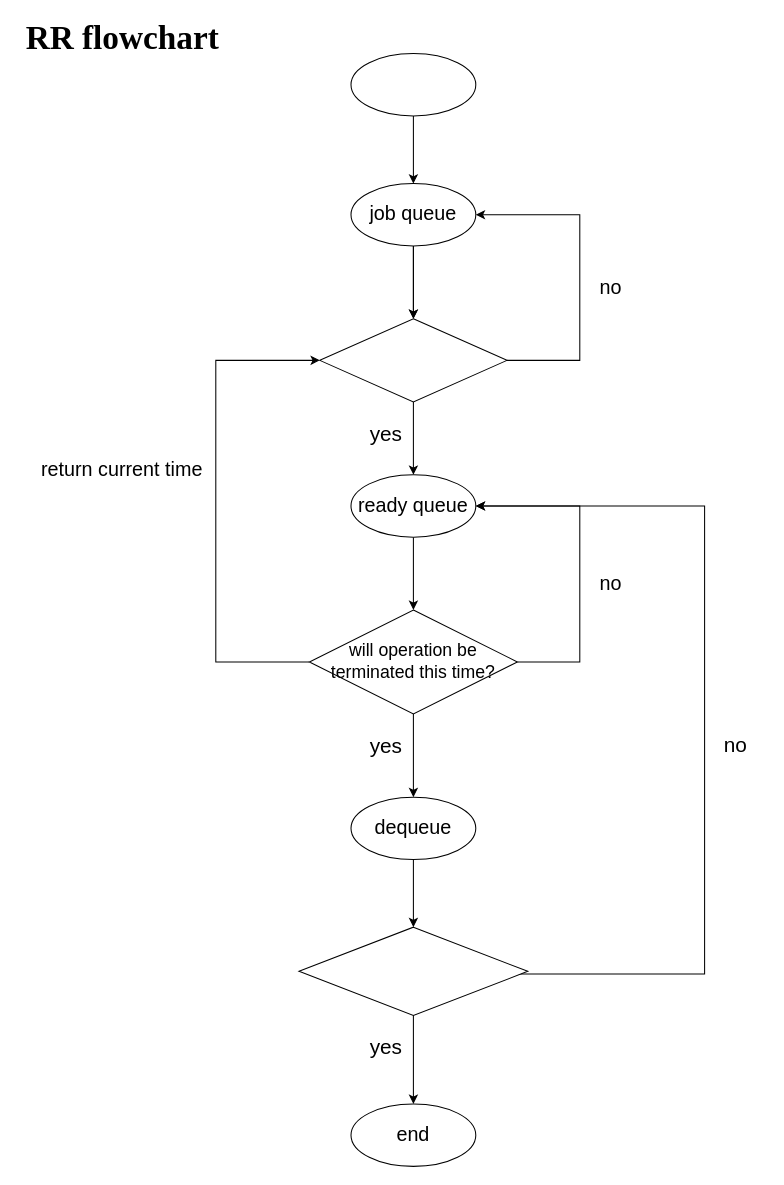
Image size: 784x1185. Some labels were removed from this diagram. The shapes that lost their labels are listed below. From the top down, each one's centre as x and y in pixels, then its label:
At point (413, 84): "read file".
At point (413, 360): "operation arrived?".
At point (413, 971): "is ready queue empty?".
